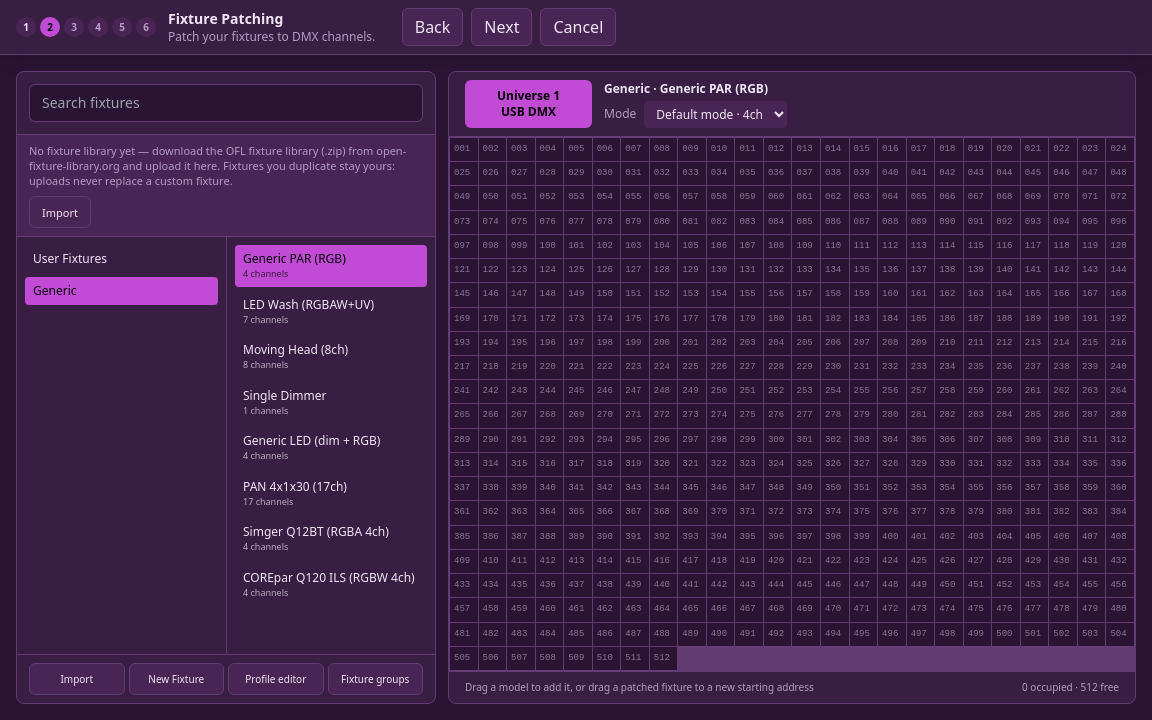
Test: Setup wizard modal (full-window, over the whole GUI) › Next on the patch step advances to preview inside the modal
Click the button "Next".
click(502, 27)  # box [471,8,532,46]
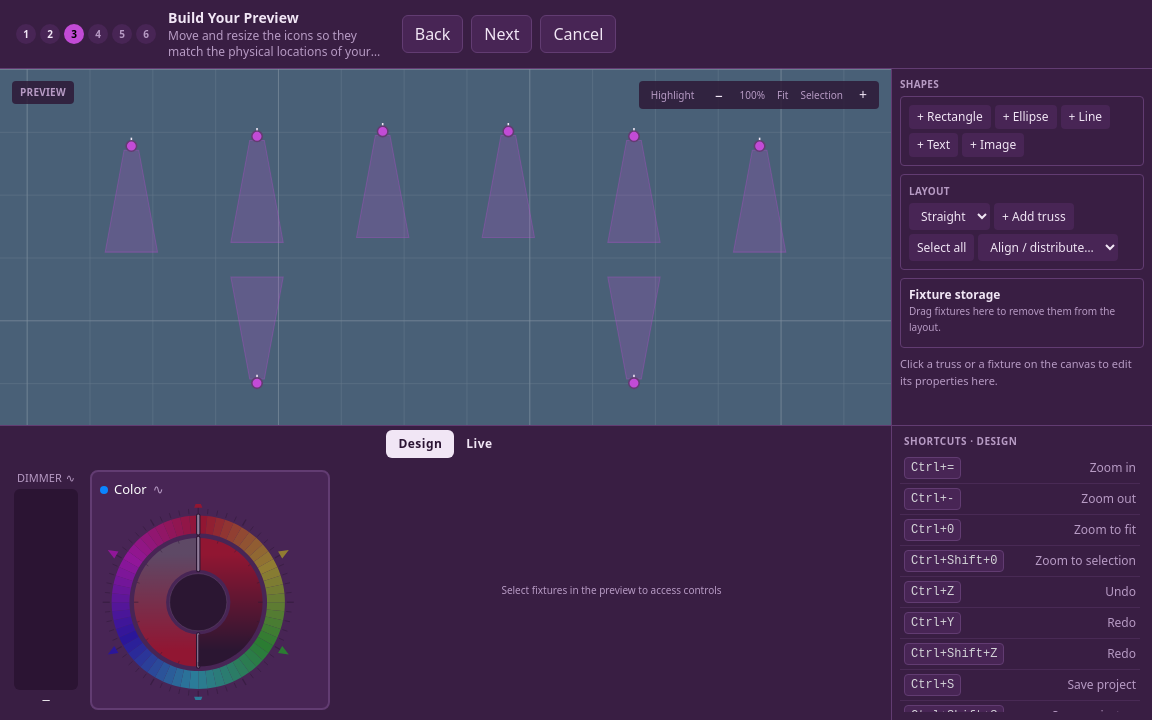
Check: the dialog named "Setup wizard" shows "Build Your Preview", box [168,8,299,27]
Check: the element with class "main-grid" is shown, box [0,69,1151,426]
